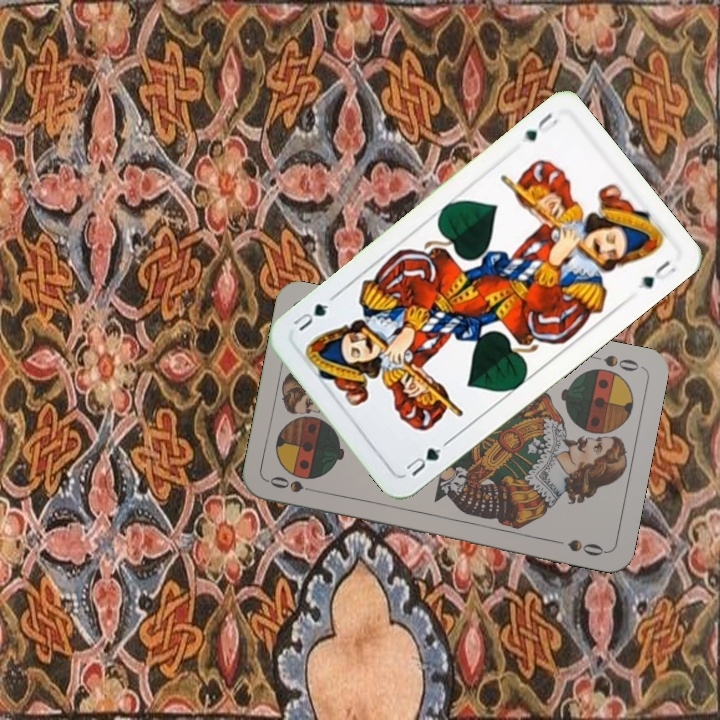GU: (401, 443, 444, 479), (520, 108, 561, 144)
SO: (266, 472, 324, 496), (585, 350, 642, 374)
